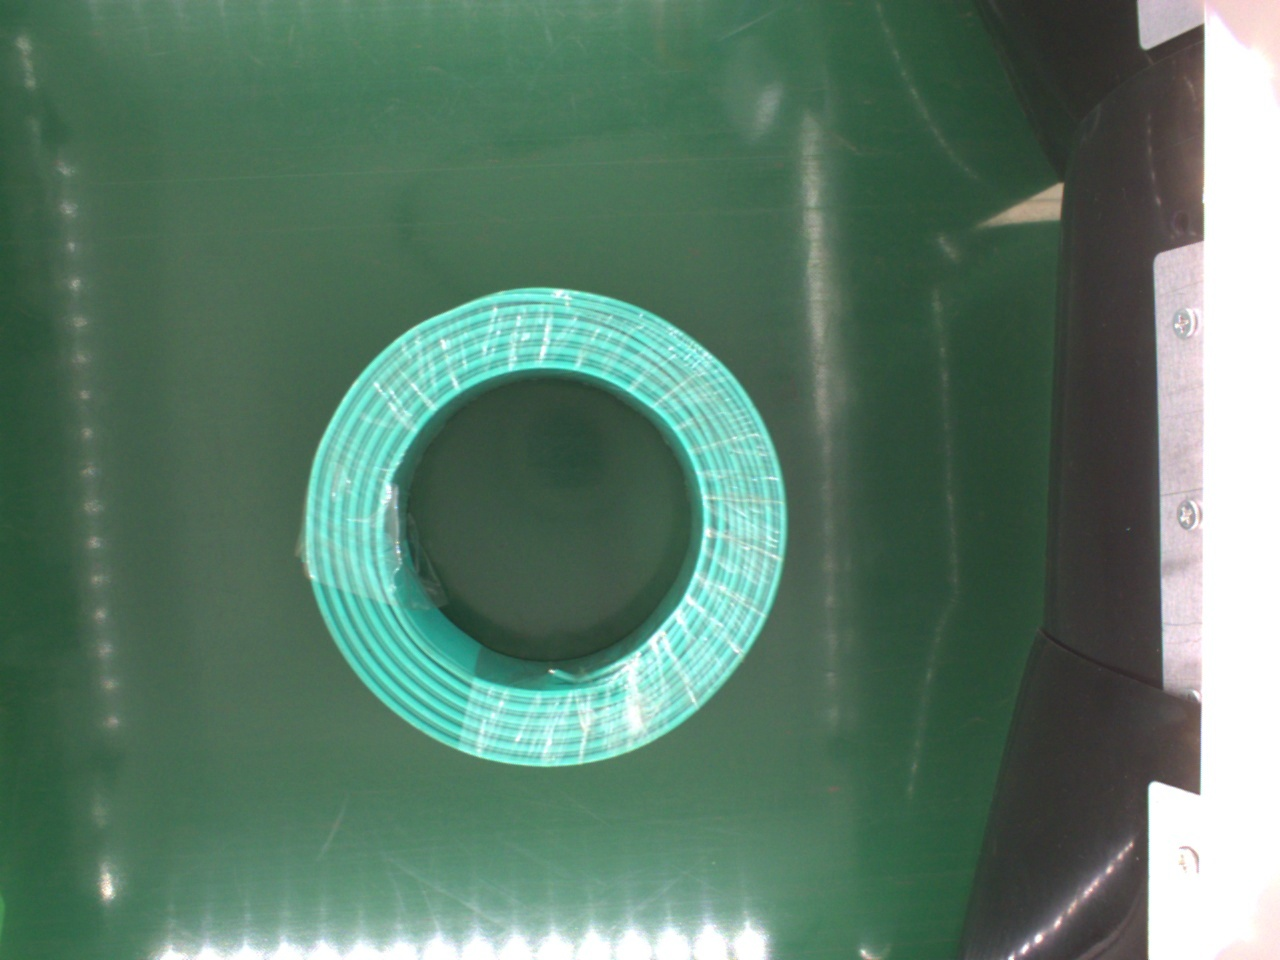green: (284, 287, 789, 764)
